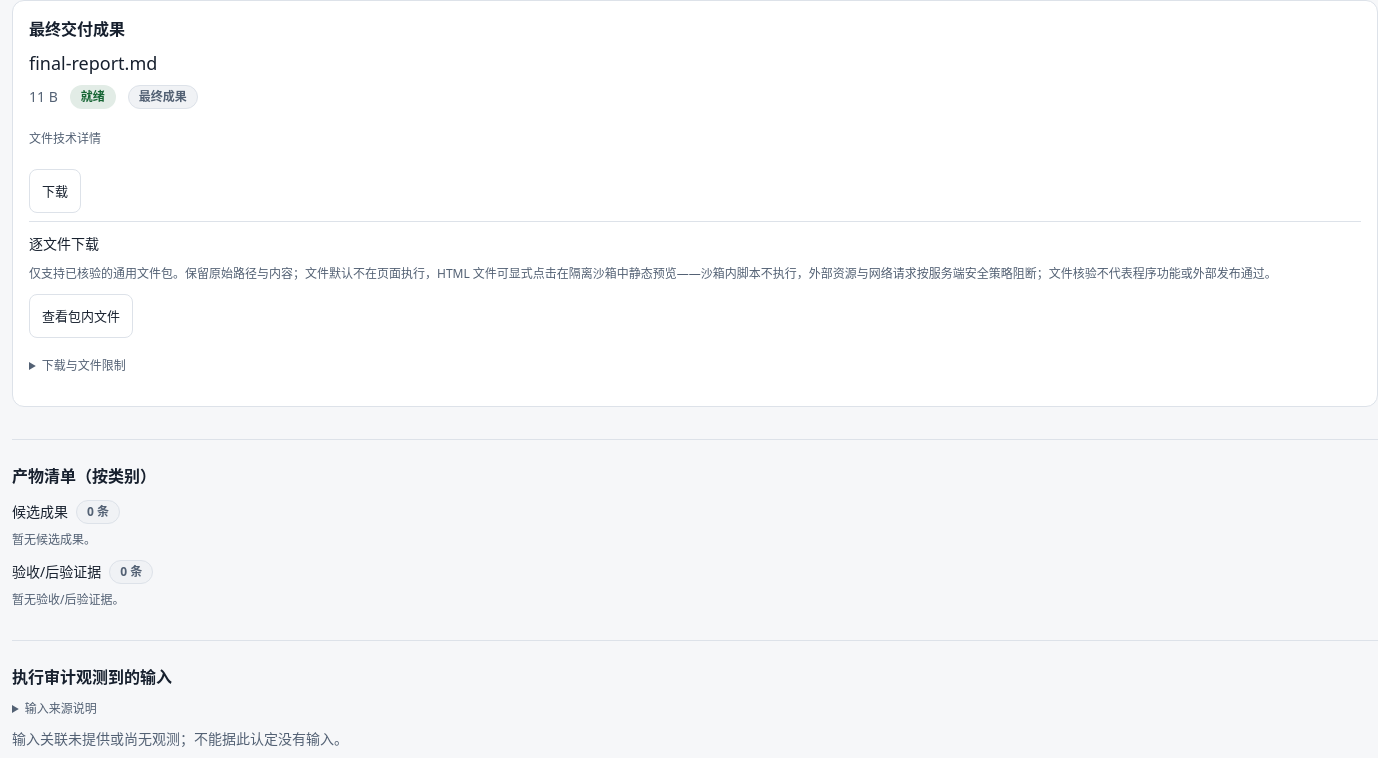
成果页（P09 / E15–E19） › 摘要遭到篡改时拒绝保存且不宣称成功（E17）
Click the button with test id "download-button" at (55, 191), box [29,169,81,213]
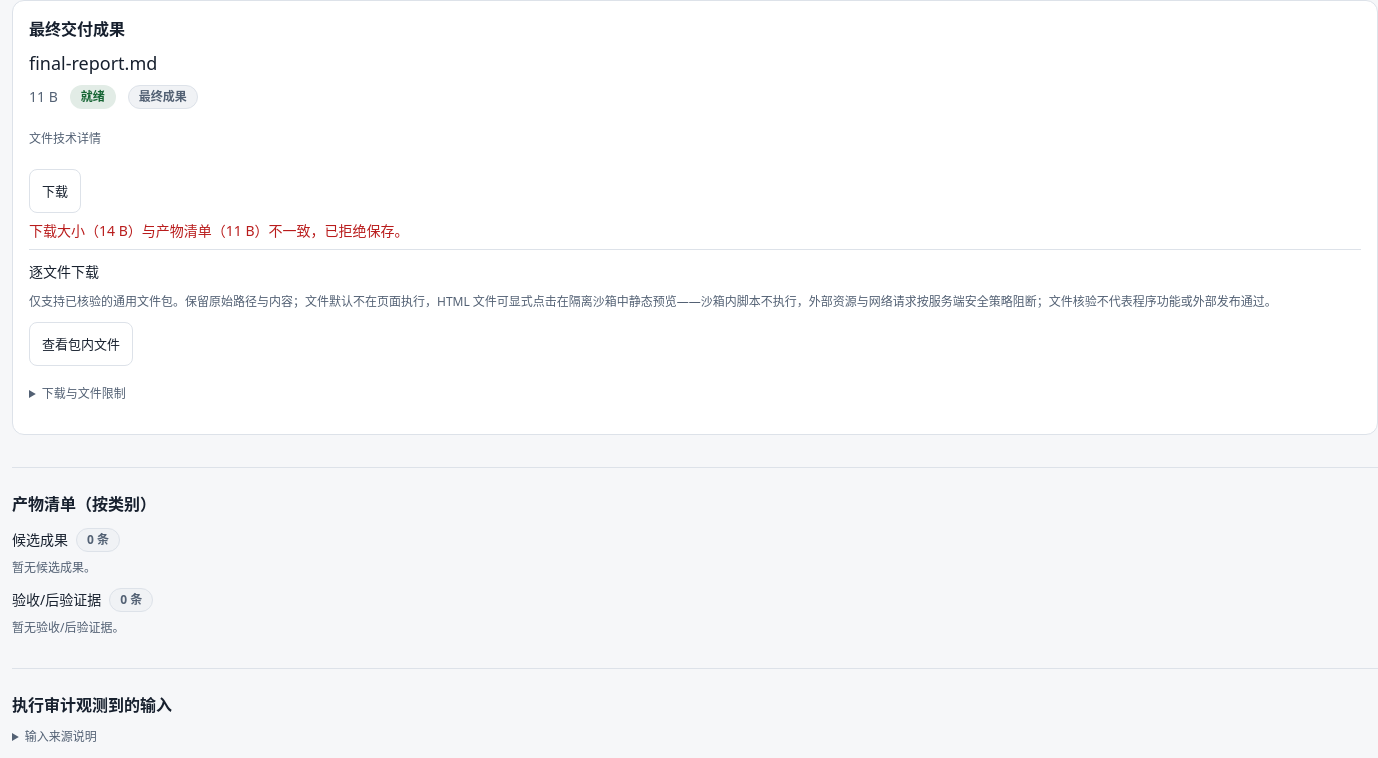
expect the message with test id "download-rejected" shows "已拒绝保存": met, box [29,221,408,240]
